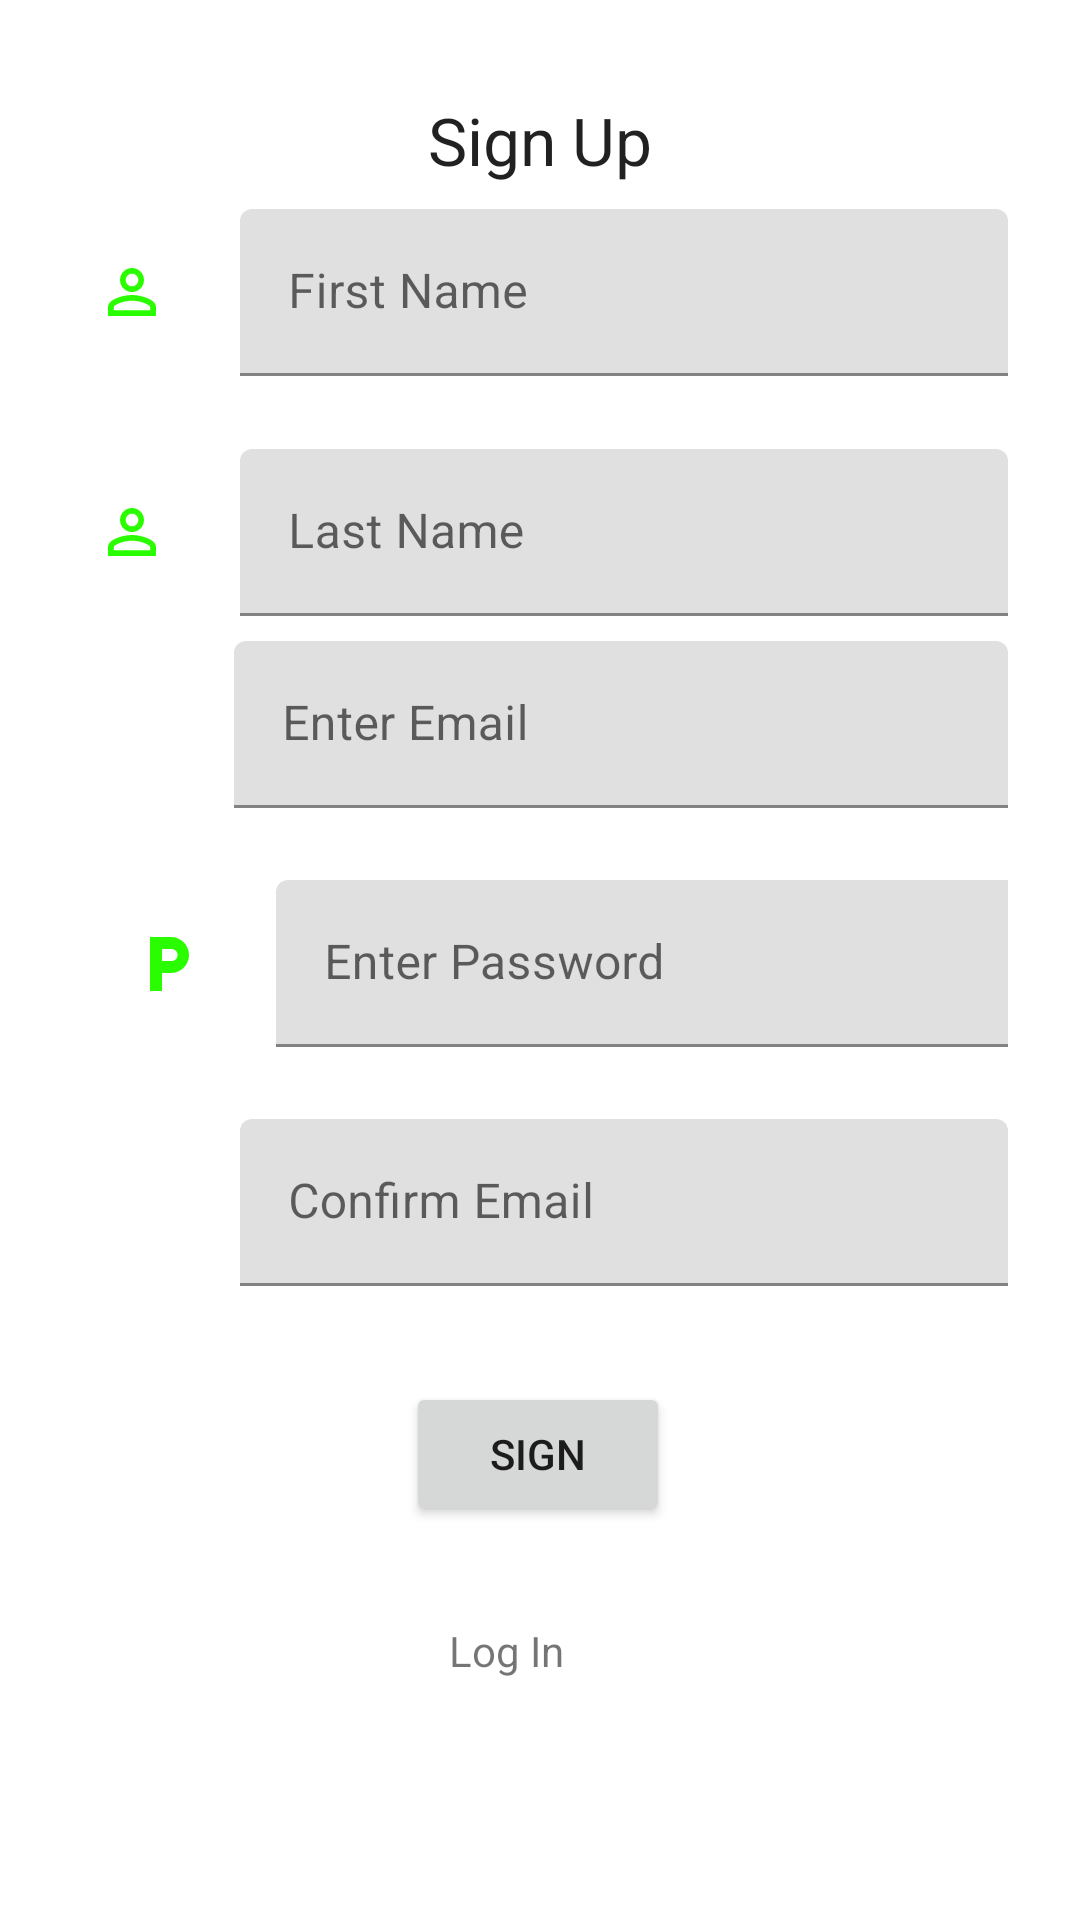

Screen size 1080×1920. Icon name, then its box in pixels as detection(x1, y1, x2, y2):
local parking: detection(150, 937, 189, 991)
perm identity: detection(108, 268, 156, 316), detection(108, 508, 156, 556)
